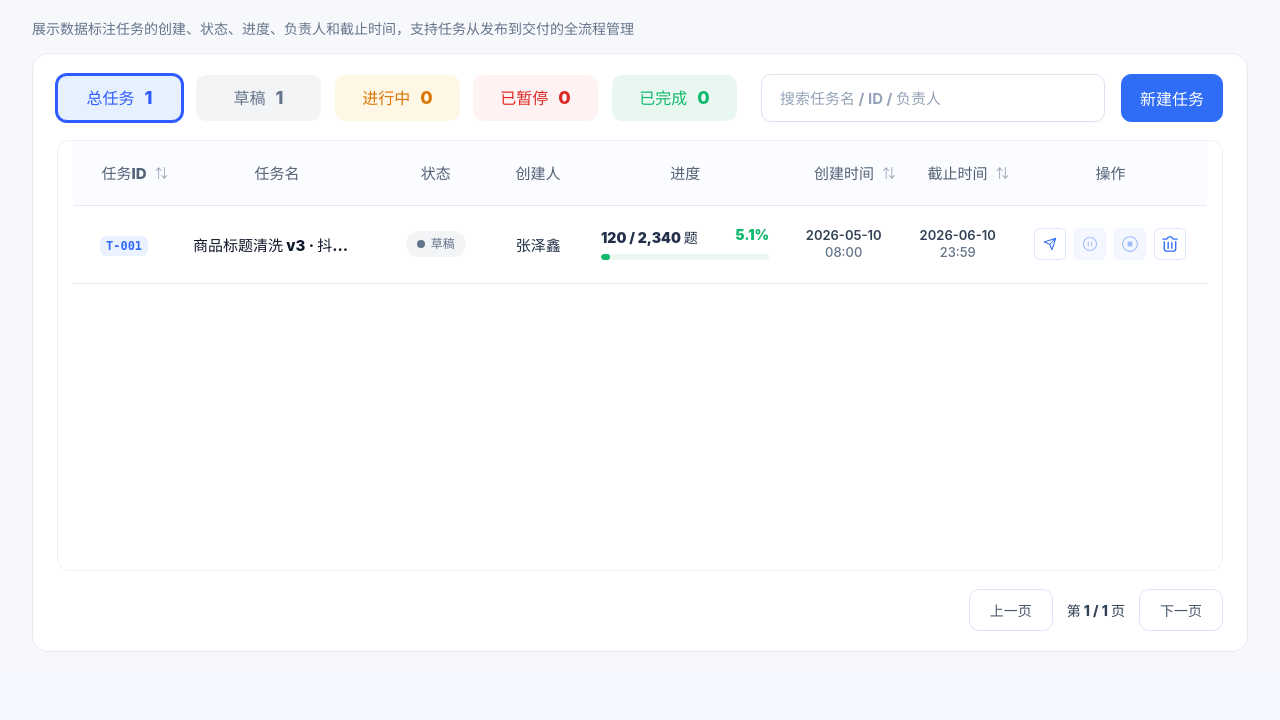
Test: TaskListPage › 新建任务抽屉编辑后点击外部并选择是时才创建草稿
The width and height of the screenshot is (1280, 720).
Click the button "新建任务" at (1172,98), box [1121,74,1223,122]
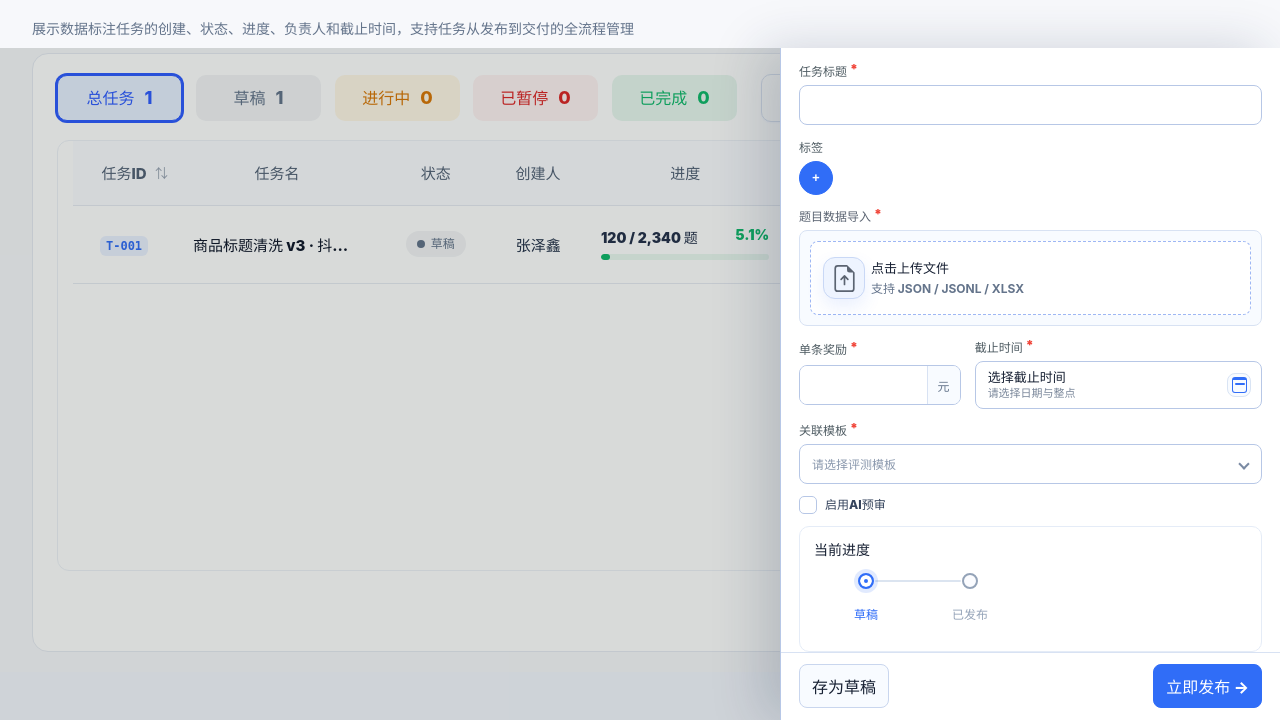
Type "更新" into the field labelled "任务标题" at (1030,105), box [799,85,1262,125]
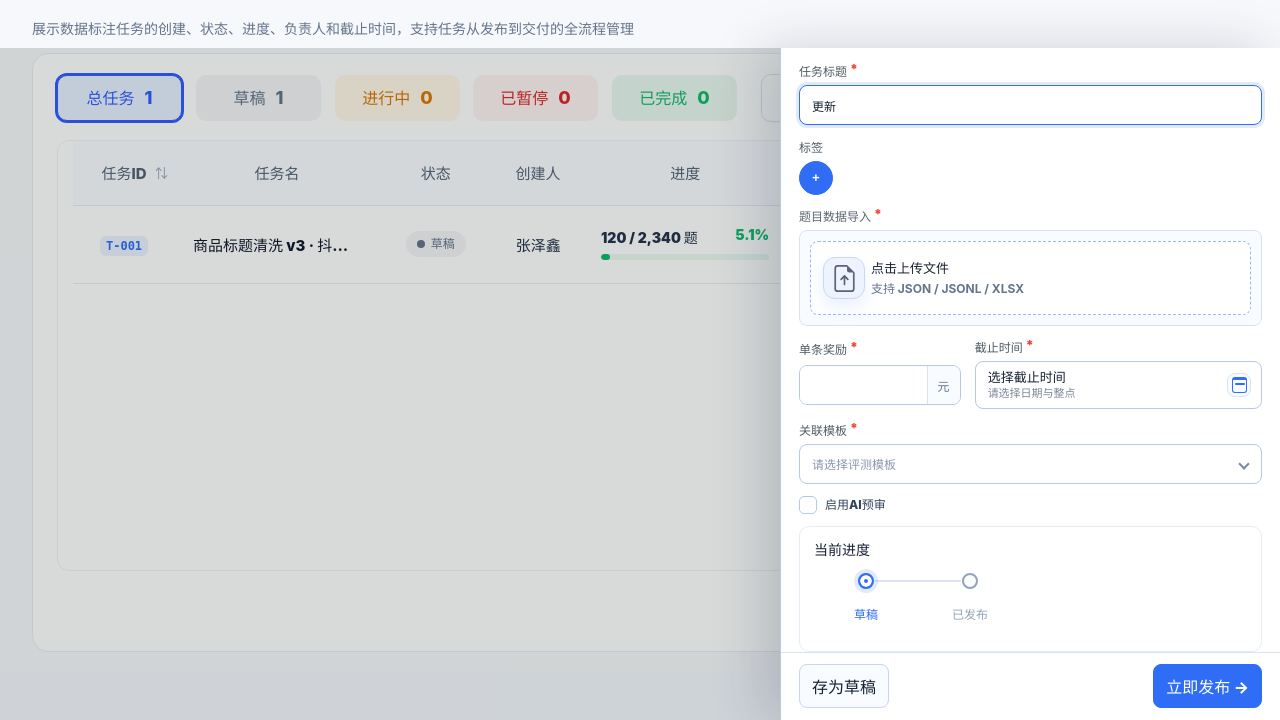
Now the element with class "task-publish-drawer-shell" is shown
Click the element with class "task-publish-drawer-shell" at (640,384), box [0,48,1279,719]
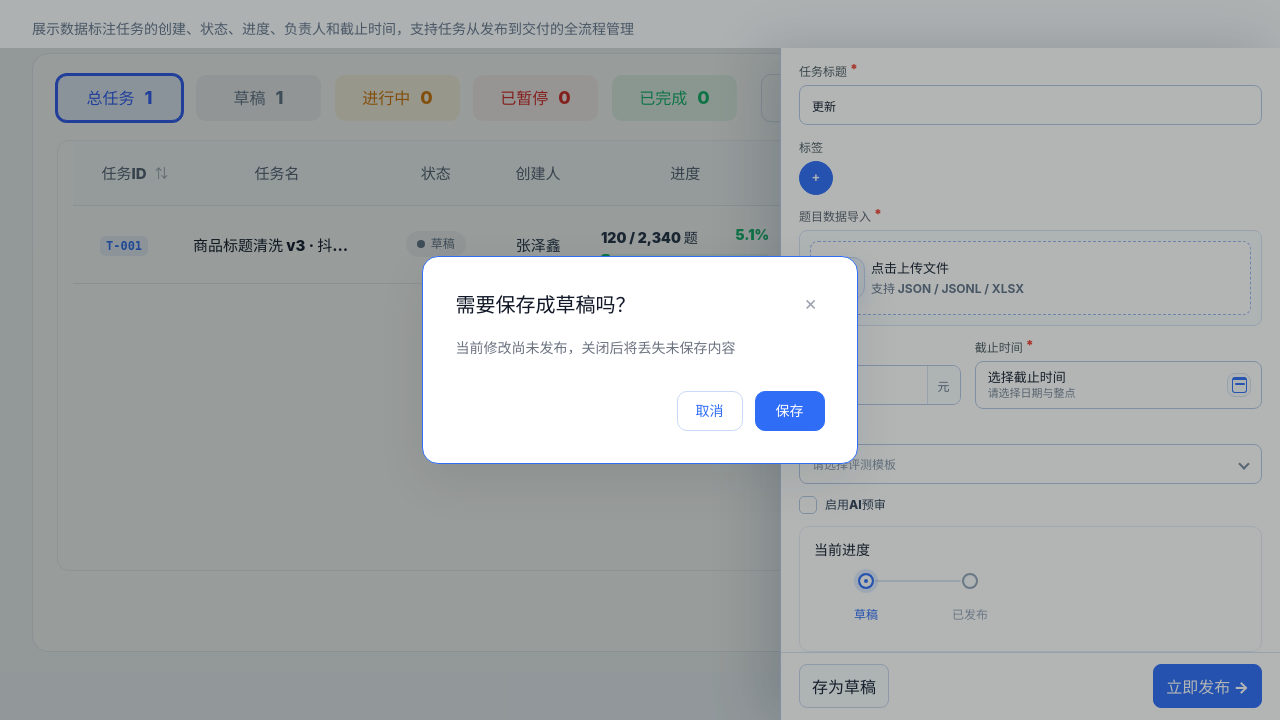
Click the button "保存" at (790,411), box [755,391,825,431]
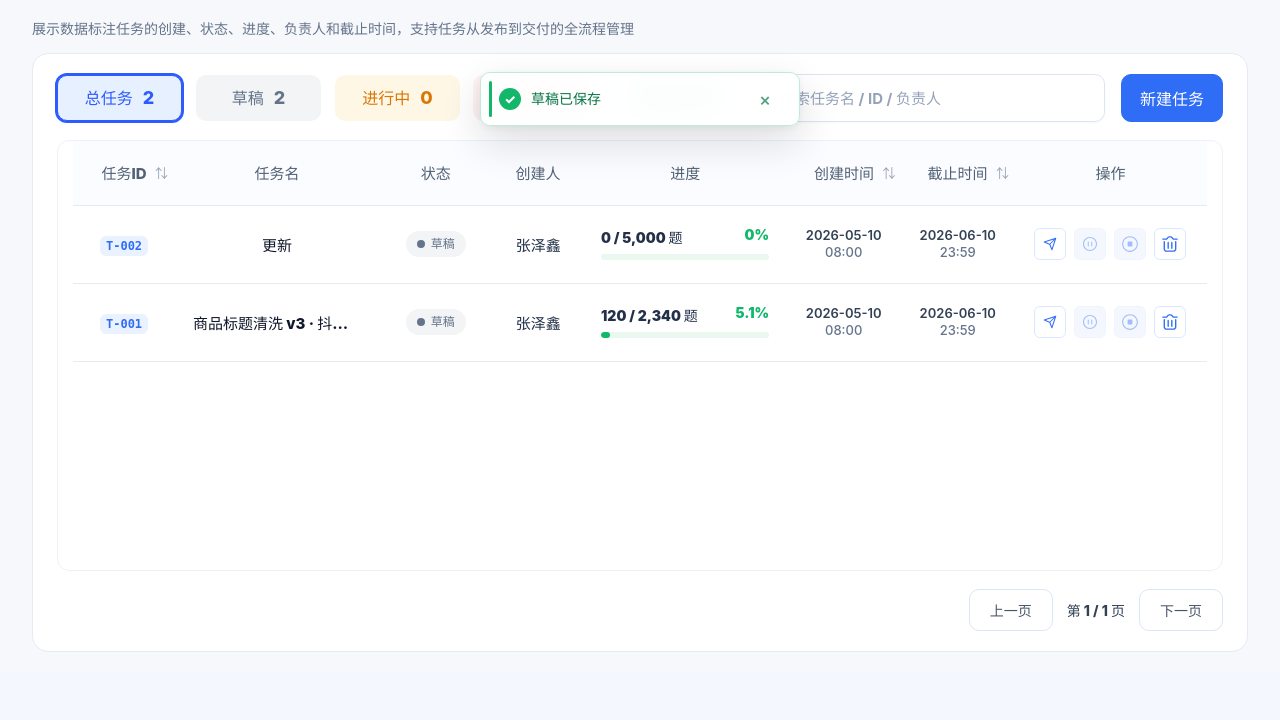
Now the text "草稿已保存" is shown, box [531,90,601,107]
Now the button "更新" is shown, box [262,234,292,254]
Now the element "发布任务抽屉" is gone
